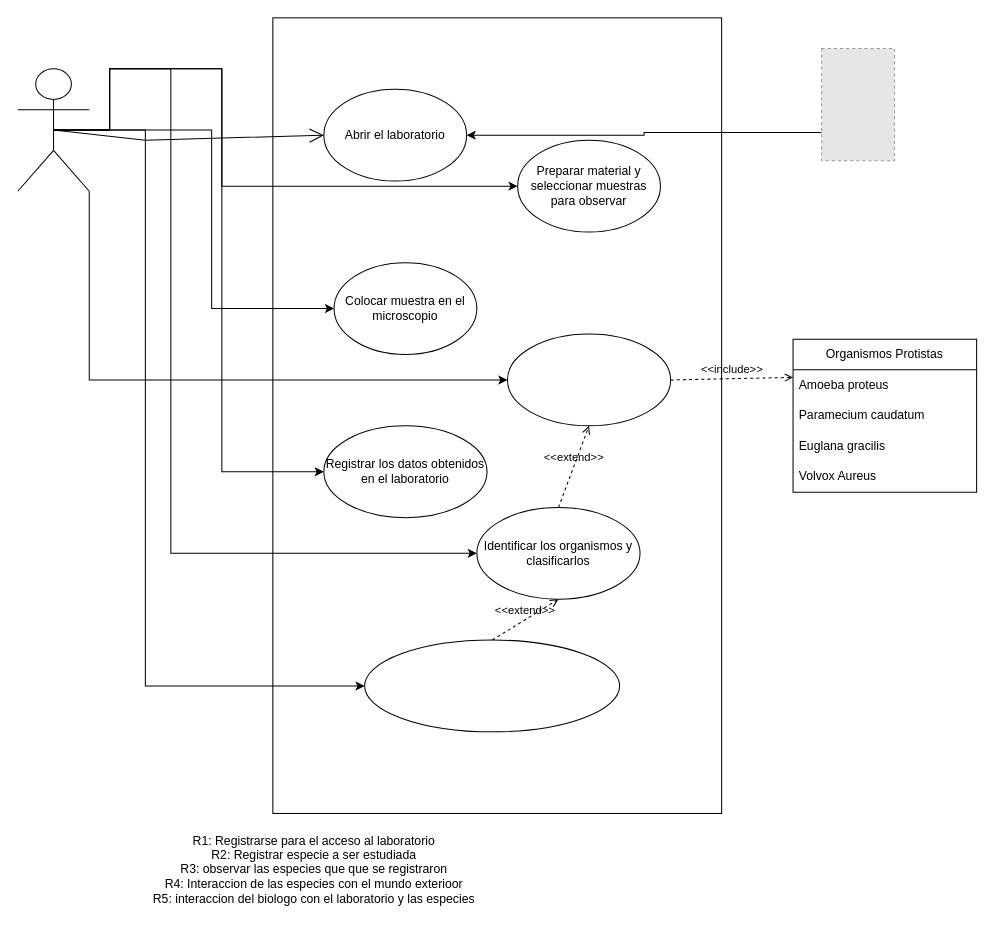
The diagram is 995 pixels wide and 933 high, and some of its shapes have lost their labels. Grey dashed boxes stand in for pictures. Each missing label, with the centre of its shape:
"Biologo" goes at point (53, 129).
"Generar informe con los resultados de la experimentacion y clasificacion" goes at point (492, 685).
"Observas los organismos protistas de las muestras" goes at point (588, 379).
